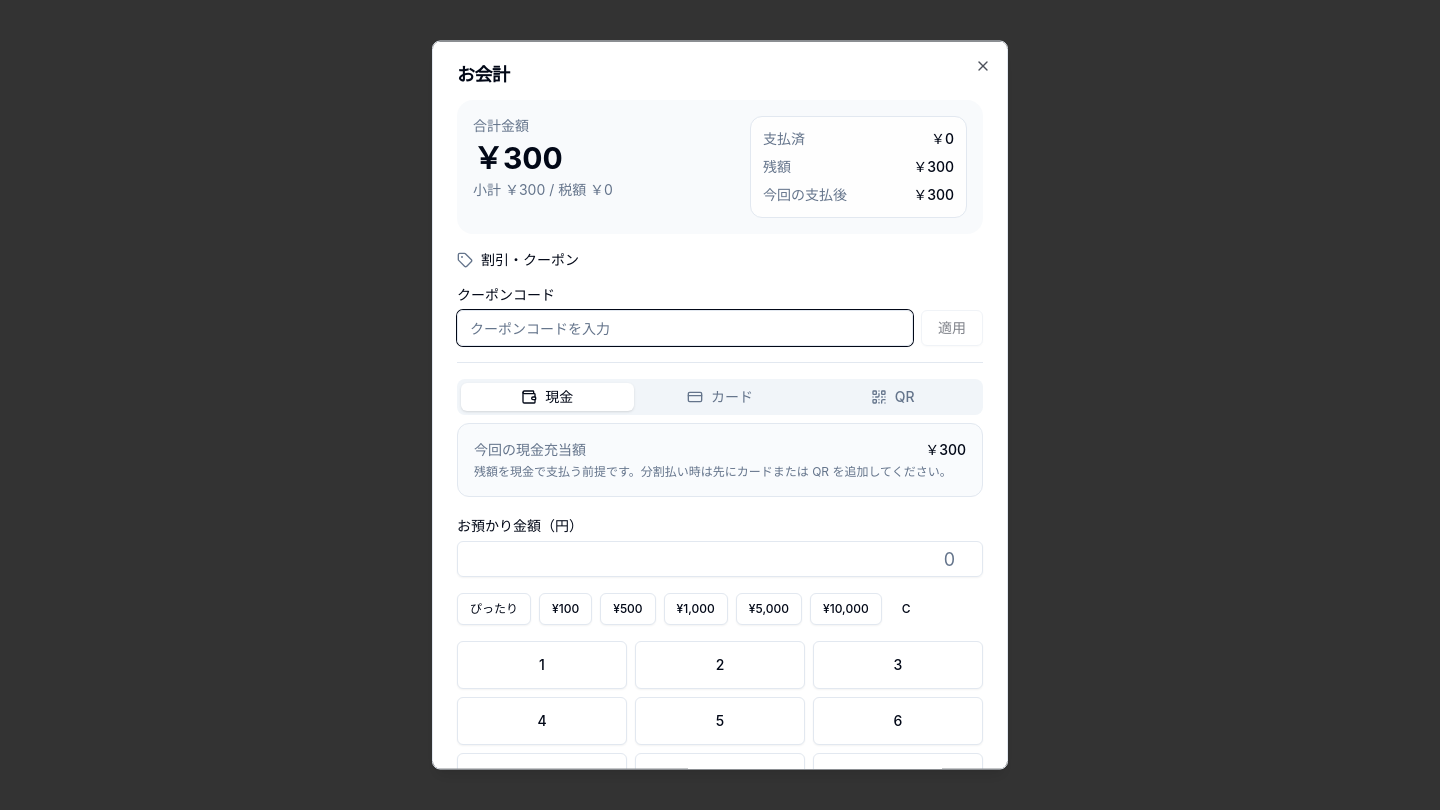
Scenario: CheckoutDialog › ぴったりボタンで合計金額が入力される
This screenshot has width=1440, height=810.
What coordinates should you click on to do the following:
click the button "ぴったり"
I would click on:
 (494, 608)
Its box is left=457, top=592, right=531, bottom=624.
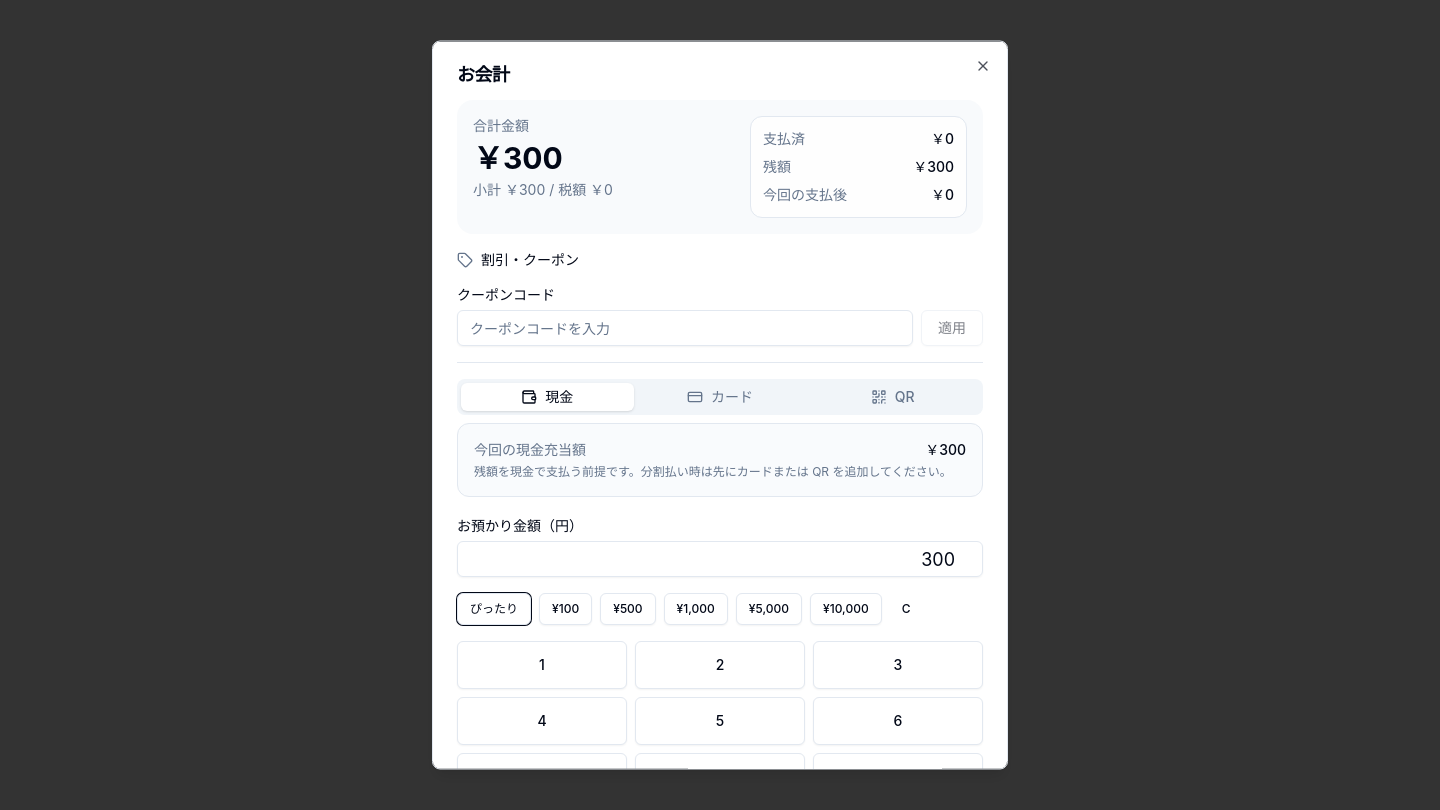
Expected: the number field with placeholder "0" holds "300", left=457, top=540, right=983, bottom=576
